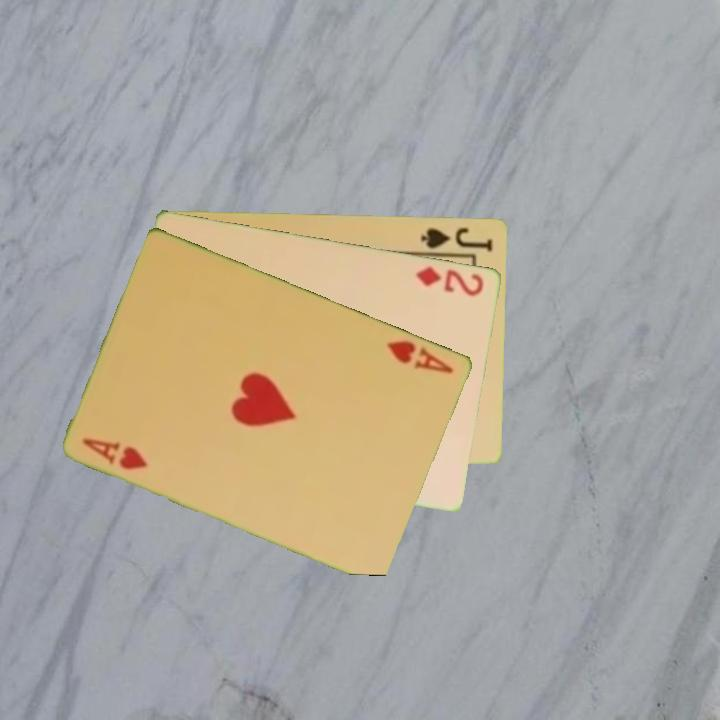2d: (413, 262, 487, 299)
Ah: (383, 336, 457, 377), (79, 434, 152, 473)
Js: (418, 223, 496, 254)
